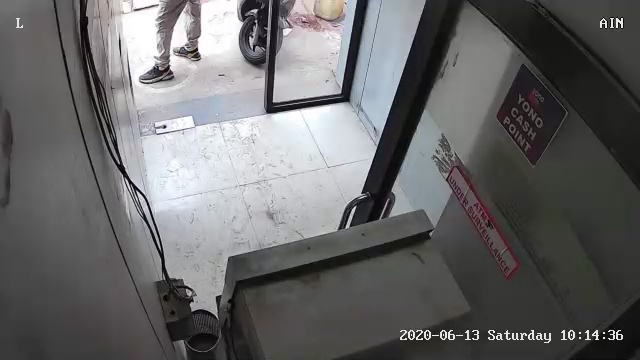open: (113, 5, 379, 136)
